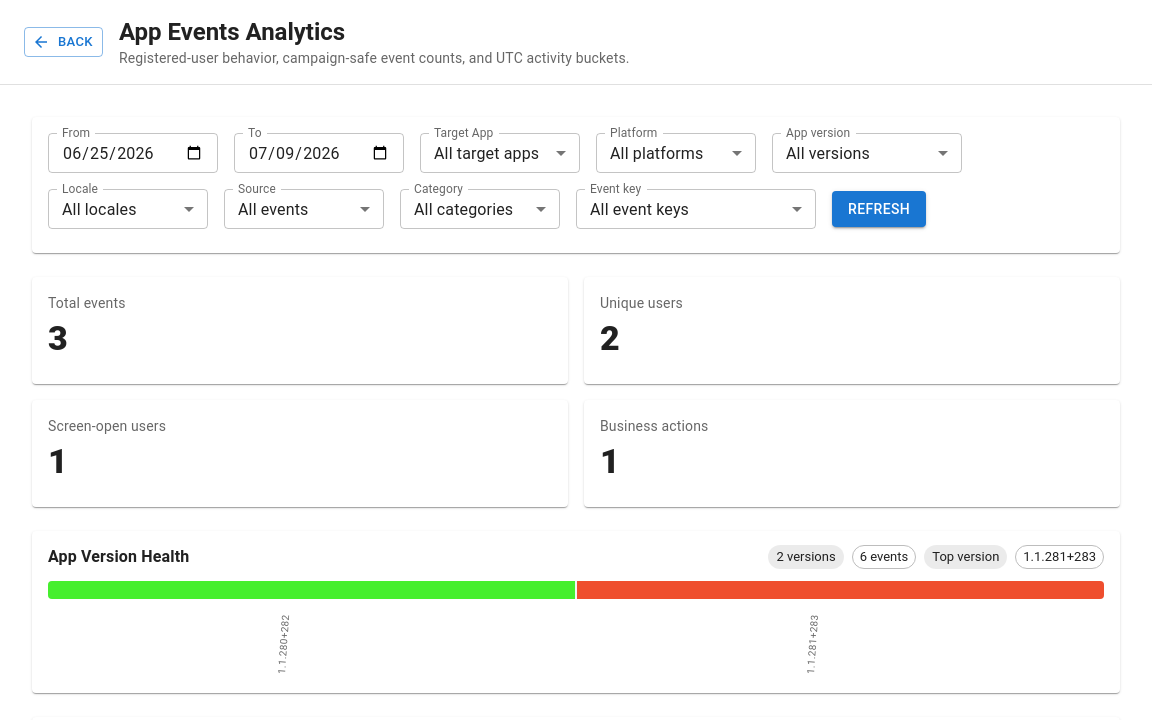
Test case: AppEventsAnalyticsDashboard › loads the default bounded range and renders KPIs, readable counts, and heatmap
Check: the text "Total events" is shown, box [48,295,126,311]
Check: the dropdown "All target apps" is shown, box [434,144,539,162]
Click the button with aria-label "Open app version health breakdown": (576, 612) [32,531,1120,693]
(page scrolled)
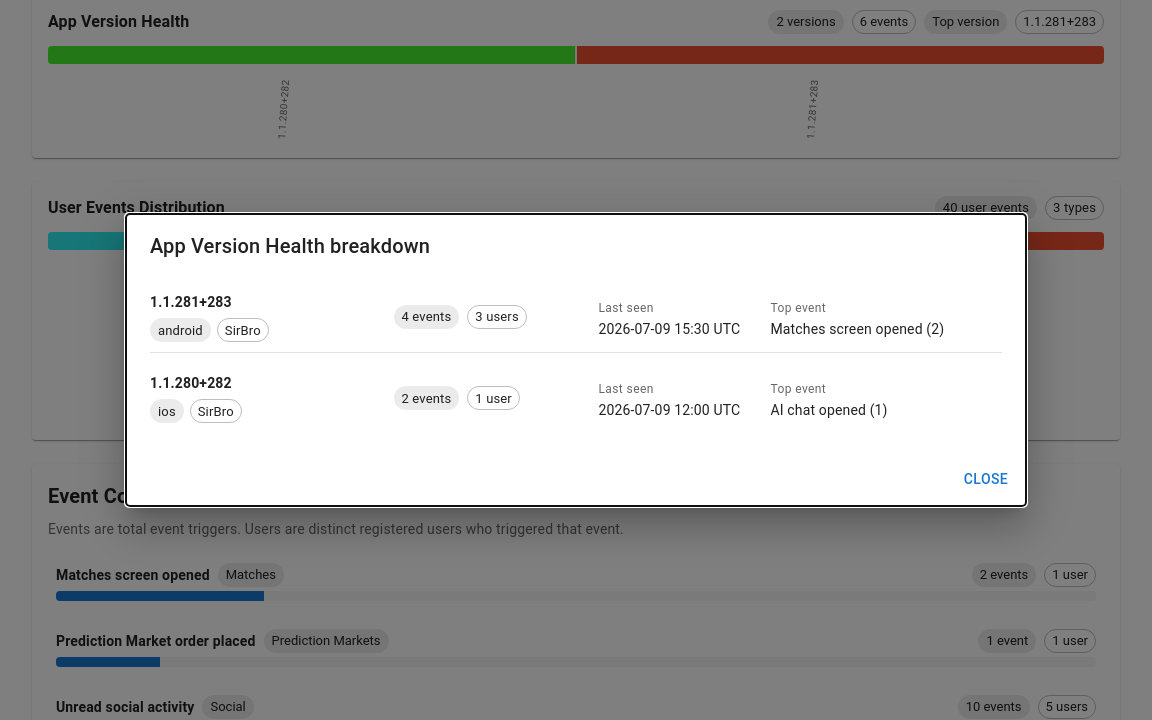
Check: the dialog "App Version Health breakdown" is shown, box [126,214,1026,506]
Check: the text "android" is shown, box [158,322,203,338]
Check: the text "4 events" is shown, box [402,310,451,324]
